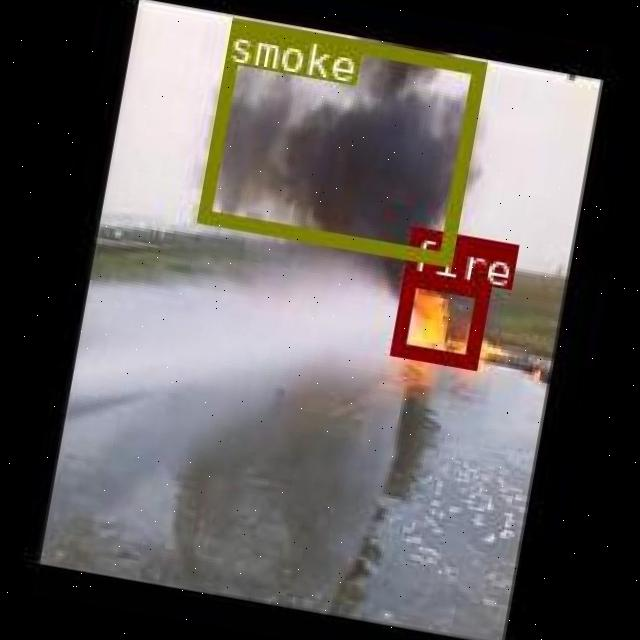fire: (388, 270, 488, 368)
smoke: (195, 17, 482, 262)
